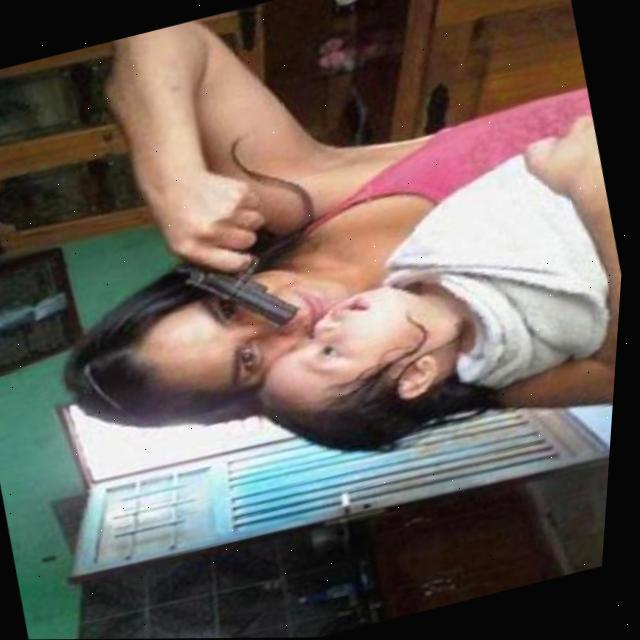gun: (160, 191, 335, 357)
